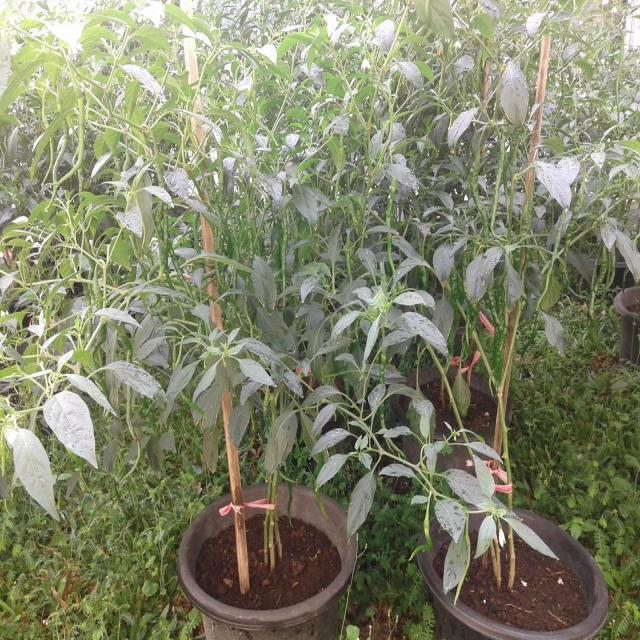sehat: (0, 425, 70, 510), (42, 387, 108, 470), (264, 398, 304, 471), (347, 469, 385, 534)
